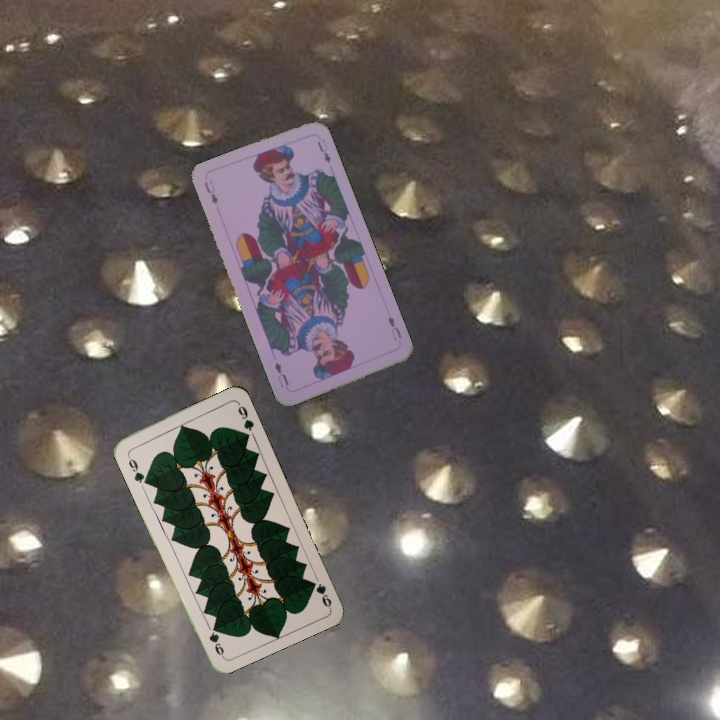EU: (384, 312, 404, 343), (200, 176, 220, 207)
G9: (123, 449, 149, 486), (307, 577, 334, 610)
